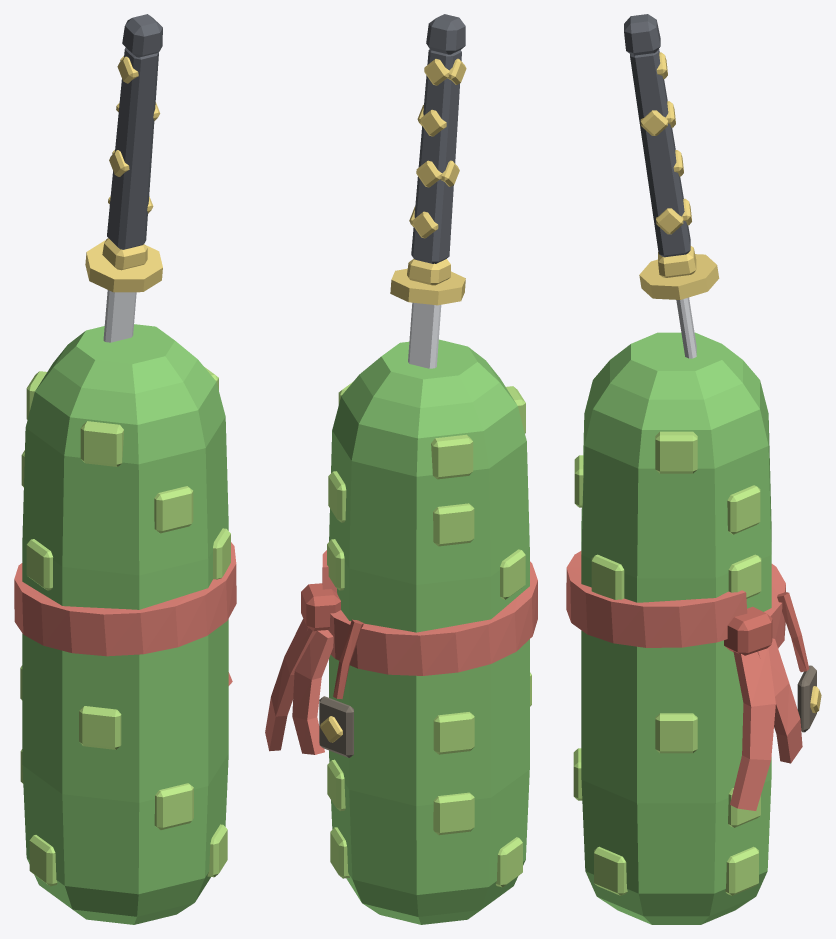
Rendered from SamuraiKatanaCucumber.fbx.
The picture shows the model from 3 angles, left to right: view 1: azimuth 30°, elevation 25°; view 2: azimuth 150°, elevation 25°; view 3: azimuth 270°, elevation 25°; orthographic projection. The views are drawn at different scales.
Parts seen in each view (by area): view 1: SamuraiKatanaCucumber.Body, SamuraiKatanaCucumber.Studs, SamuraiKatanaCucumber.Sash, SamuraiKatanaCucumber.Handle, SamuraiKatanaCucumber.Fittings, SamuraiKatanaCucumber.Blade; view 2: SamuraiKatanaCucumber.Body, SamuraiKatanaCucumber.Sash, SamuraiKatanaCucumber.Studs, SamuraiKatanaCucumber.Handle, SamuraiKatanaCucumber.Fittings, SamuraiKatanaCucumber.Knot, SamuraiKatanaCucumber.Blade, SamuraiKatanaCucumber.Tag; view 3: SamuraiKatanaCucumber.Body, SamuraiKatanaCucumber.Sash, SamuraiKatanaCucumber.Studs, SamuraiKatanaCucumber.Handle, SamuraiKatanaCucumber.Fittings, SamuraiKatanaCucumber.Knot, SamuraiKatanaCucumber.Tag, SamuraiKatanaCucumber.Blade.
Part boxes in pixels (<box>): SamuraiKatanaCucumber.Body: <box>22,324,228,924</box>; SamuraiKatanaCucumber.Studs: <box>20,367,230,886</box>; SamuraiKatanaCucumber.Sash: <box>14,542,236,685</box>; SamuraiKatanaCucumber.Handle: <box>107,14,162,249</box>; SamuraiKatanaCucumber.Fittings: <box>85,56,162,292</box>; SamuraiKatanaCucumber.Blade: <box>103,290,136,342</box>; SamuraiKatanaCucumber.Body: <box>329,339,529,924</box>; SamuraiKatanaCucumber.Sash: <box>265,550,537,754</box>; SamuraiKatanaCucumber.Studs: <box>327,381,531,887</box>; SamuraiKatanaCucumber.Handle: <box>411,14,465,263</box>; SamuraiKatanaCucumber.Fittings: <box>320,58,466,742</box>; SamuraiKatanaCucumber.Knot: <box>301,583,363,699</box>; SamuraiKatanaCucumber.Blade: <box>408,302,441,368</box>; SamuraiKatanaCucumber.Tag: <box>319,696,353,757</box>; SamuraiKatanaCucumber.Body: <box>581,332,771,924</box>; SamuraiKatanaCucumber.Sash: <box>566,551,802,810</box>; SamuraiKatanaCucumber.Studs: <box>573,431,761,895</box>; SamuraiKatanaCucumber.Handle: <box>624,14,690,257</box>; SamuraiKatanaCucumber.Fittings: <box>639,52,821,713</box>; SamuraiKatanaCucumber.Knot: <box>724,592,809,672</box>; SamuraiKatanaCucumber.Tag: <box>797,665,816,732</box>; SamuraiKatanaCucumber.Blade: <box>676,297,696,358</box>.
Bounding box in the file's own units: 1.77 × 6.44 × 1.69.
